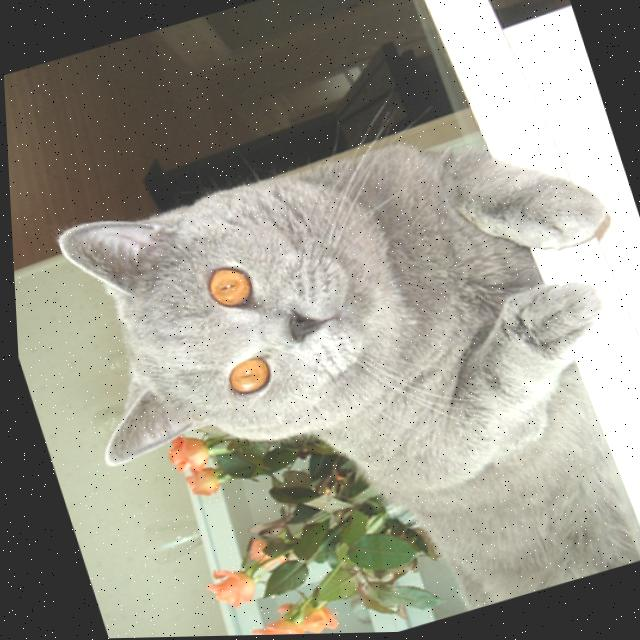British Shorthair: (15, 79, 640, 640)
